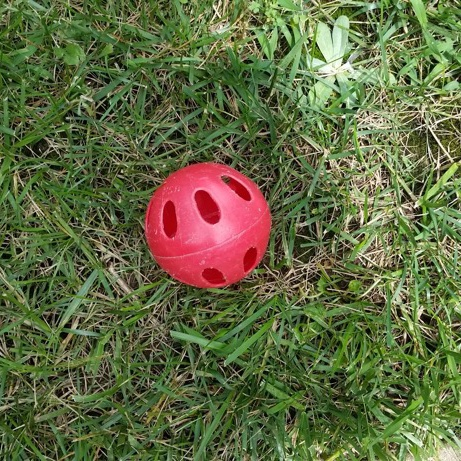ball: (140, 157, 275, 292)
